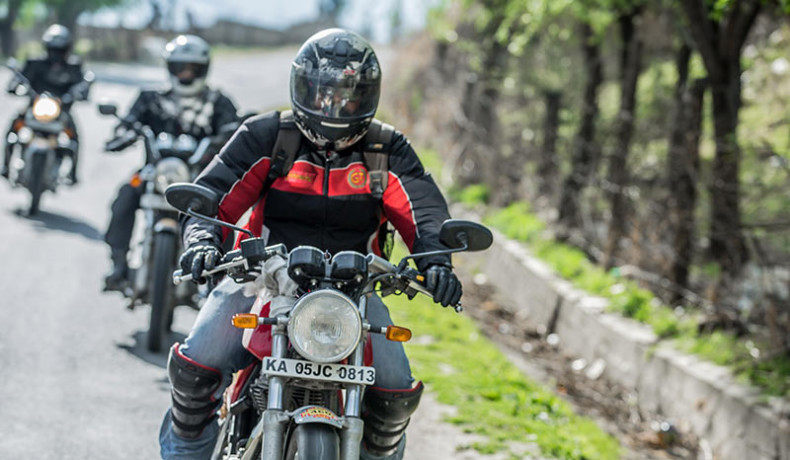helmet: (290, 28, 382, 134)
